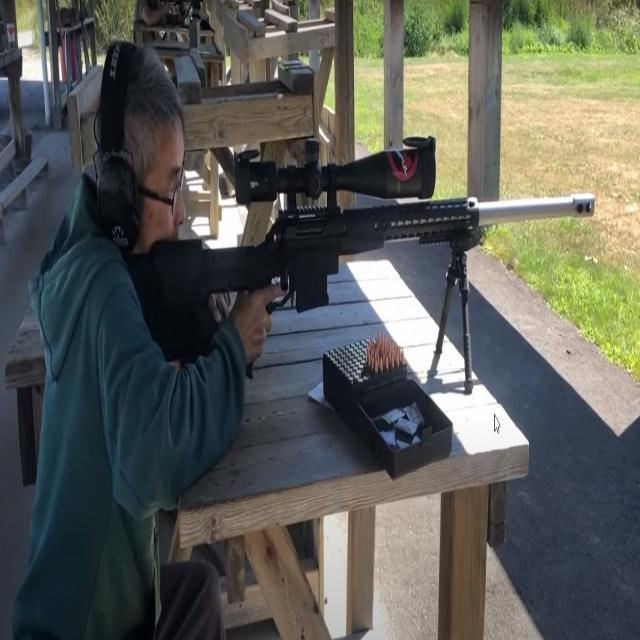rifle: (123, 125, 601, 412)
